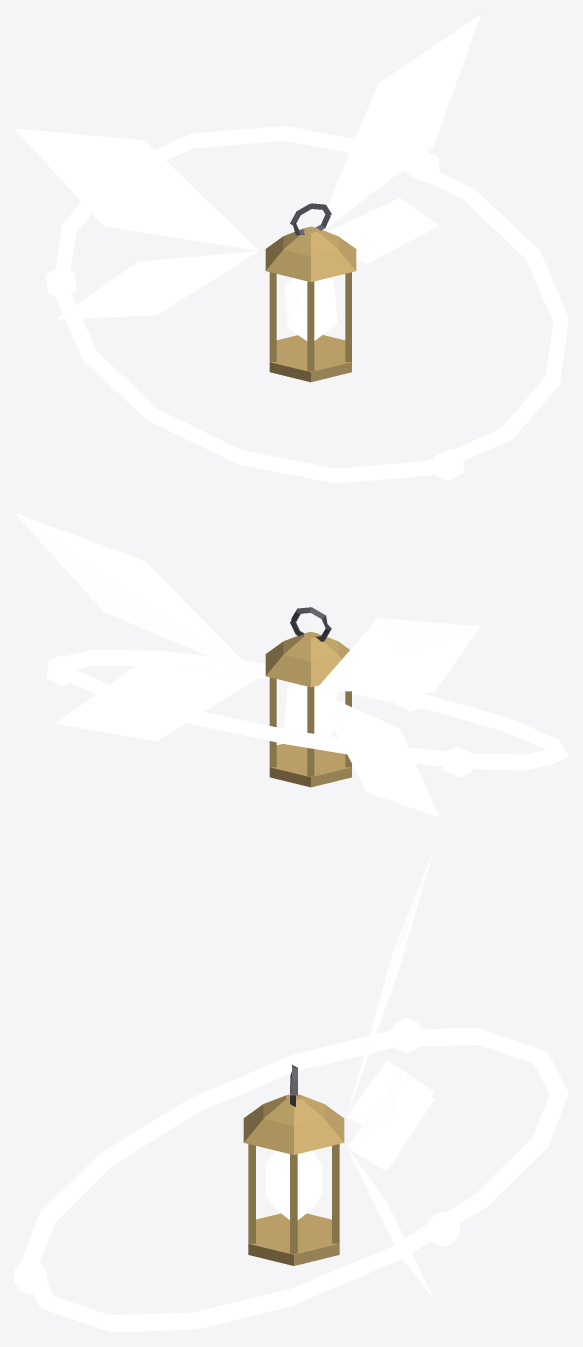
File: sprite-glow.glb
3 renders of one model, top to bottom at view 1: azimuth 30°, elevation 25°; view 2: azimuth 150°, elevation 25°; view 3: azimuth 270°, elevation 25°, orthographic. The views are drawn at different scales.
Parts seen in each view (by area): view 1: sprite_glow; view 2: sprite_glow; view 3: sprite_glow.
Boxes of the visible parts, <box> form: sprite_glow: <box>14,15,568,483</box>; sprite_glow: <box>14,512,568,817</box>; sprite_glow: <box>14,848,568,1332</box>.
Bounding box in the file's own units: 0.34 × 0.1952 × 0.3156.
